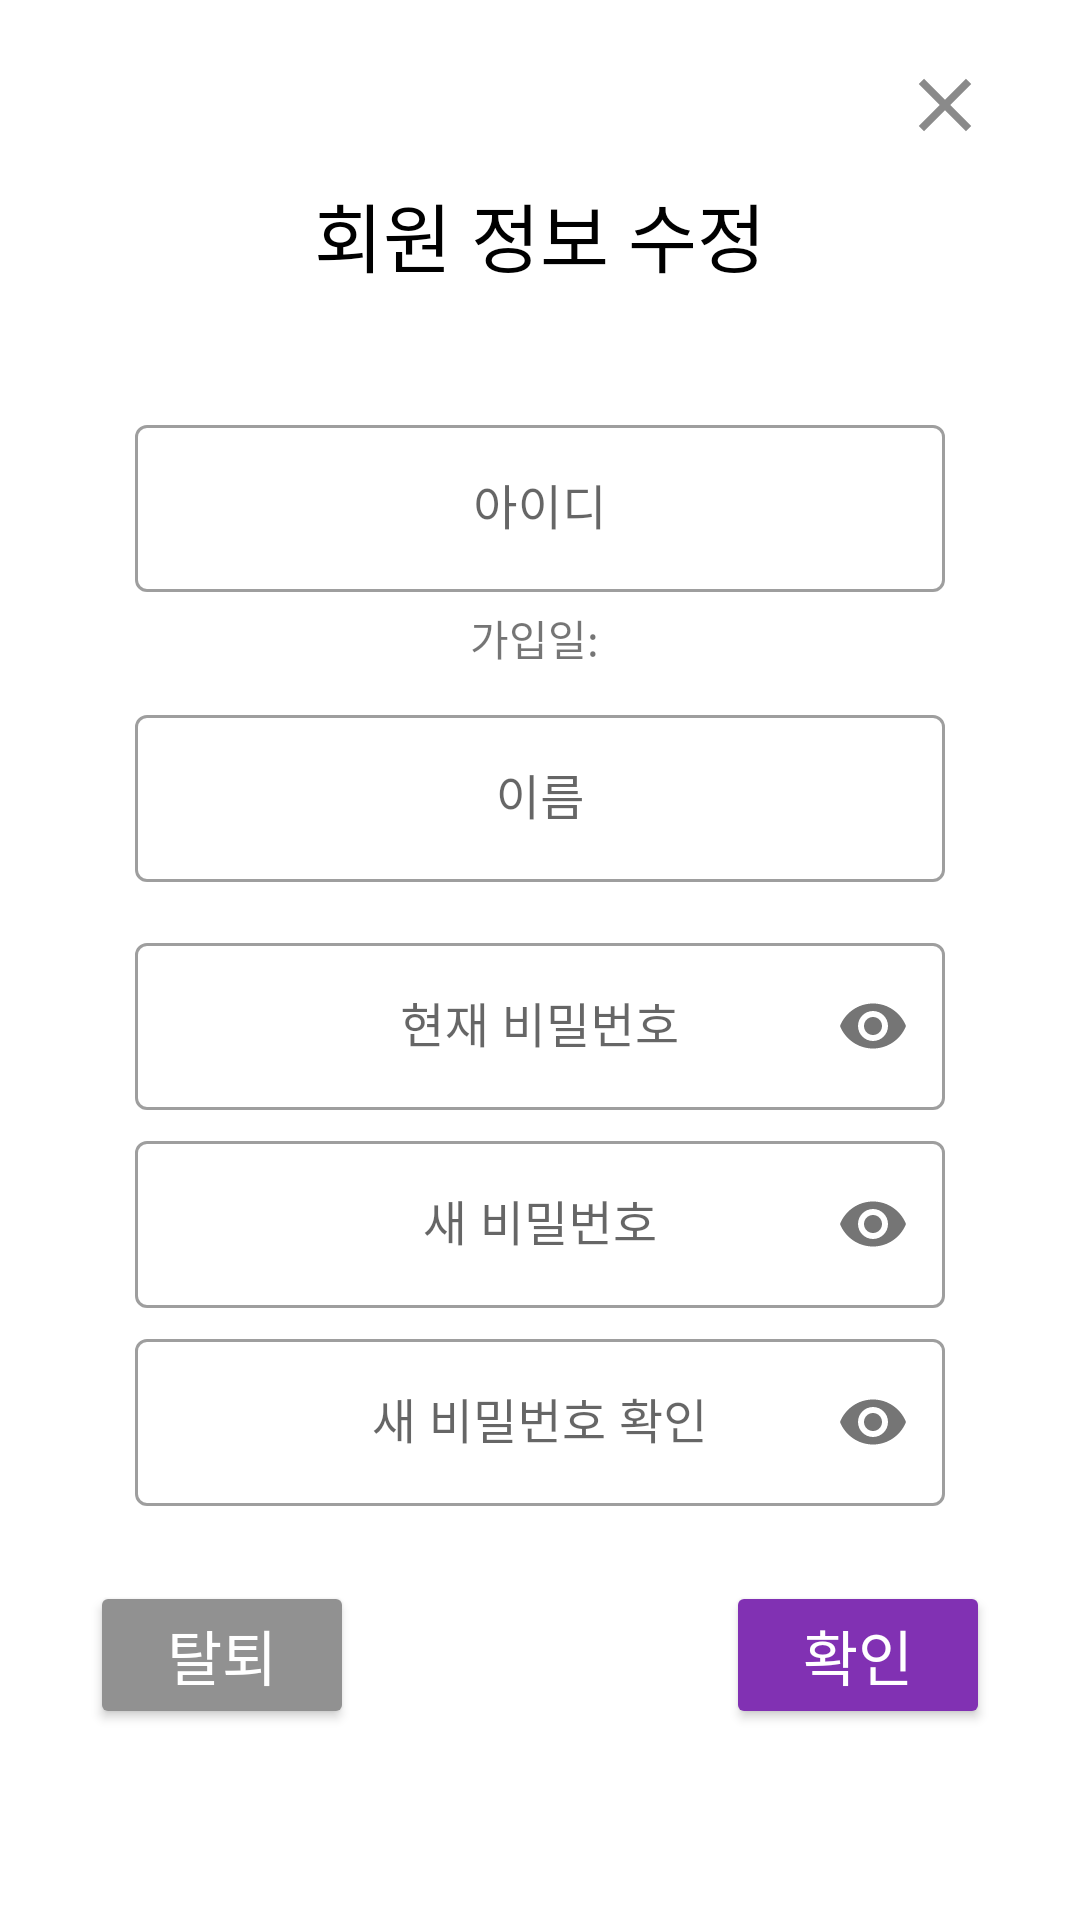

Point at icon controls on the screen. Image size 1080*1920, points as point (x, y).
close: point (945, 105)
